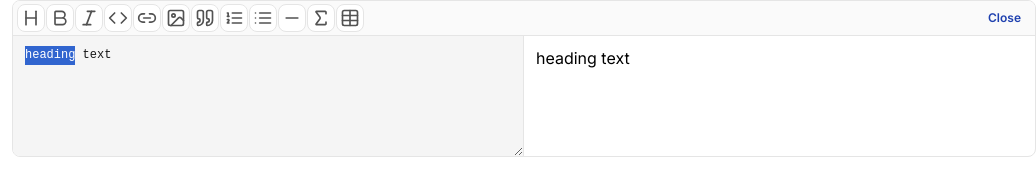
MarkdownEditor › wraps the selection rather than appending at the end
Click the button named "Bold" at [60, 18], box x1=46 y1=4 x2=74 y2=32
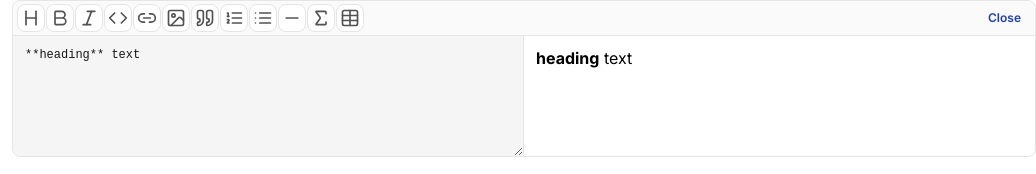
Result: the text box named "Text cell source" holds "**heading** text" at x1=13 y1=36 x2=524 y2=156
